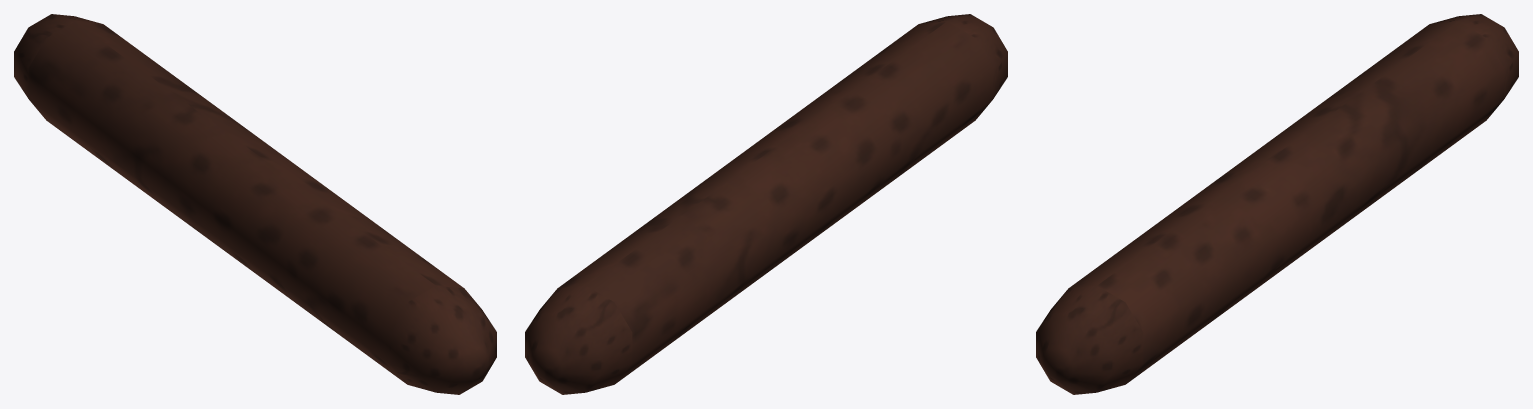
The model's file is DoubleCooked_FricadelleBurned.fbx.
3 renders of one model, left to right at view 1: azimuth 30°, elevation 25°; view 2: azimuth 150°, elevation 25°; view 3: azimuth 330°, elevation 25°, orthographic.
Parts seen in each view (by area): view 1: DoubleCooked_FricadelleBurned; view 2: DoubleCooked_FricadelleBurned; view 3: DoubleCooked_FricadelleBurned.
Boxes of the visible parts, x1=… form: DoubleCooked_FricadelleBurned: x1=14, y1=14, x2=496, y2=394; DoubleCooked_FricadelleBurned: x1=525, y1=14, x2=1007, y2=394; DoubleCooked_FricadelleBurned: x1=1036, y1=14, x2=1518, y2=394.
Bounding box in the file's own units: 2.68 × 2.82 × 22.13.
1 material, 1 textured.
